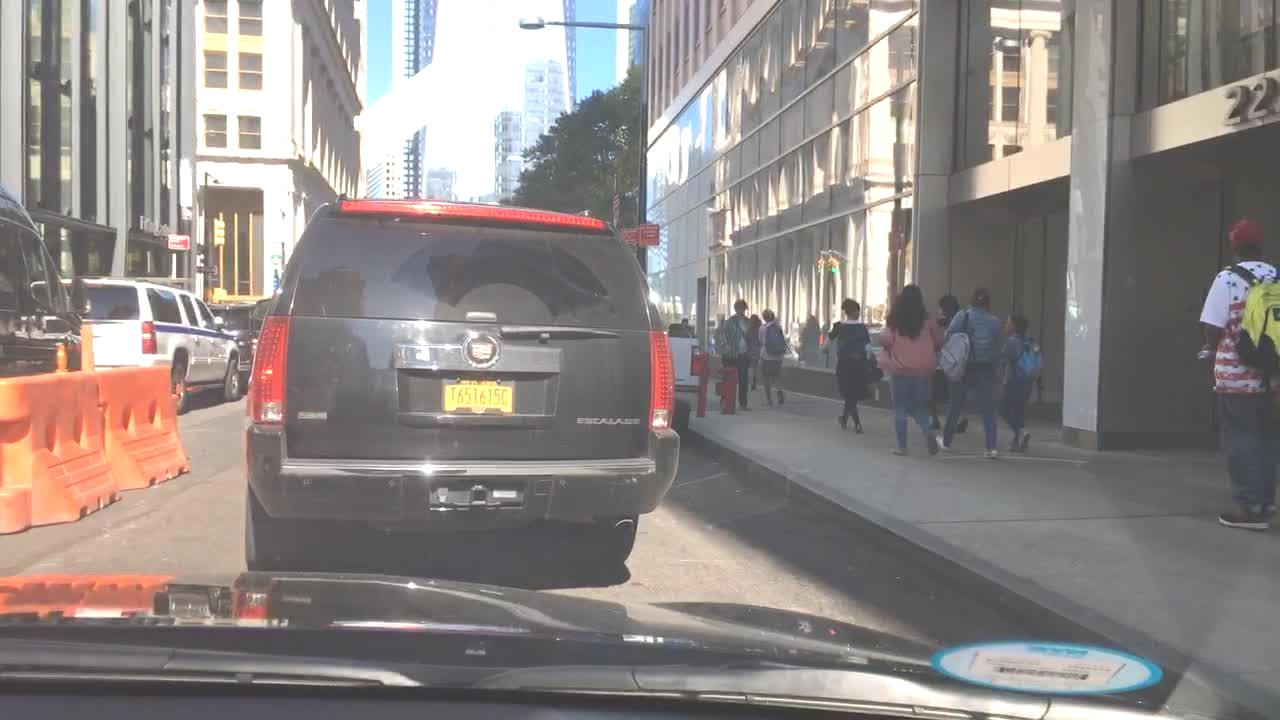cadillac: (450, 327, 519, 375)
